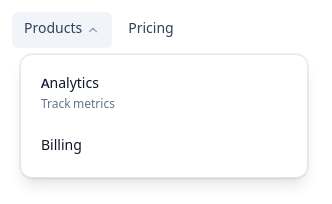
Test: NavigationMenu › closes the panel on Escape
Click the button "Products". click: (62, 30)
box: left=12, top=12, right=112, bottom=48
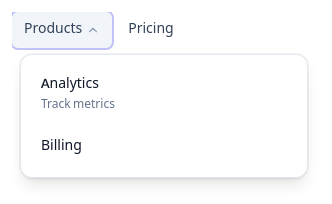
Press Escape
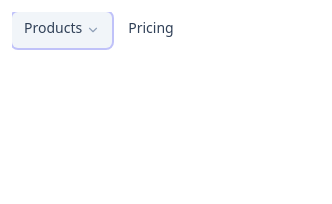
Expected: the link "Analytics" is gone
